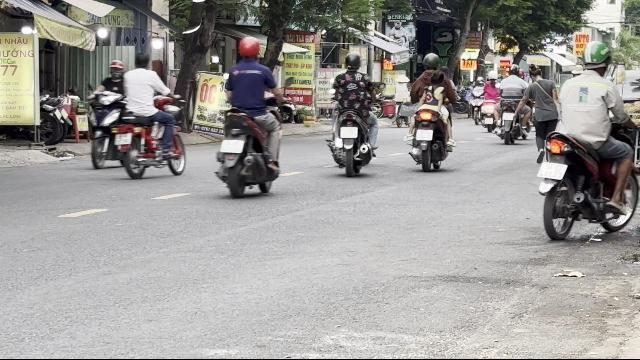helmet: (579, 40, 611, 74), (236, 36, 260, 60), (343, 51, 361, 71), (422, 52, 441, 70), (108, 60, 124, 76)
licenseplate: (538, 162, 566, 178), (220, 140, 243, 152), (340, 126, 358, 138), (115, 134, 132, 144), (416, 130, 432, 140)
motorcyclist: (532, 38, 640, 244), (214, 35, 284, 197), (116, 52, 188, 180), (324, 50, 380, 174), (404, 52, 458, 170), (84, 57, 132, 172)
nohelmet: (133, 51, 151, 69)
